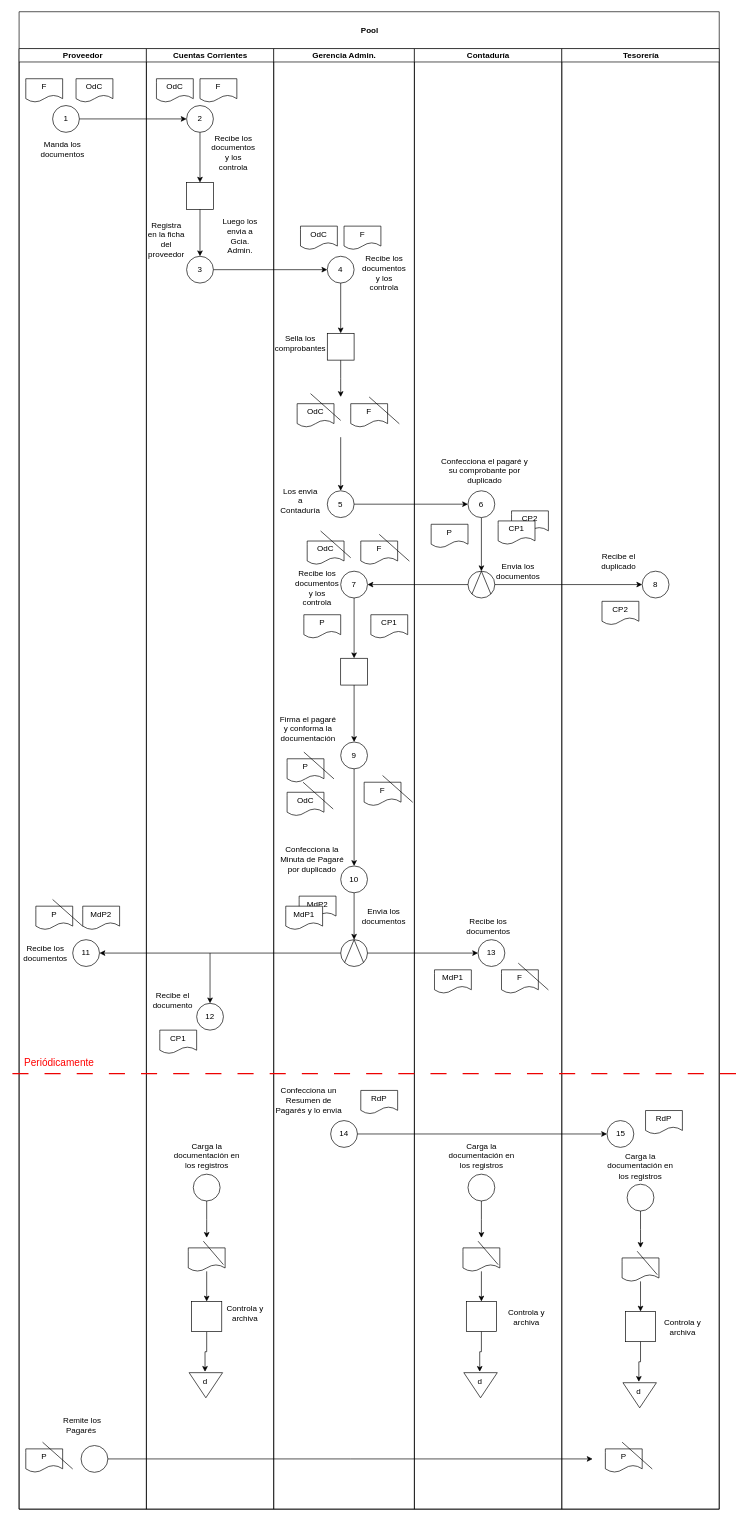
Some shapes in this 753 by 1521 pixel diagram are drawn without their labels. The shapes that lost their labels are listed below. From the top down, each one's centre as x and y in pixels, then its label:
point 206,1259: FPV
point 481,1259: DMG
point 640,1269: LV
